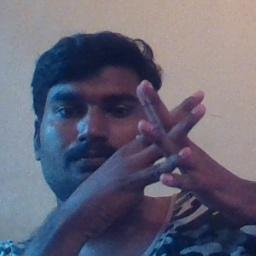W: (115, 71, 226, 208)
